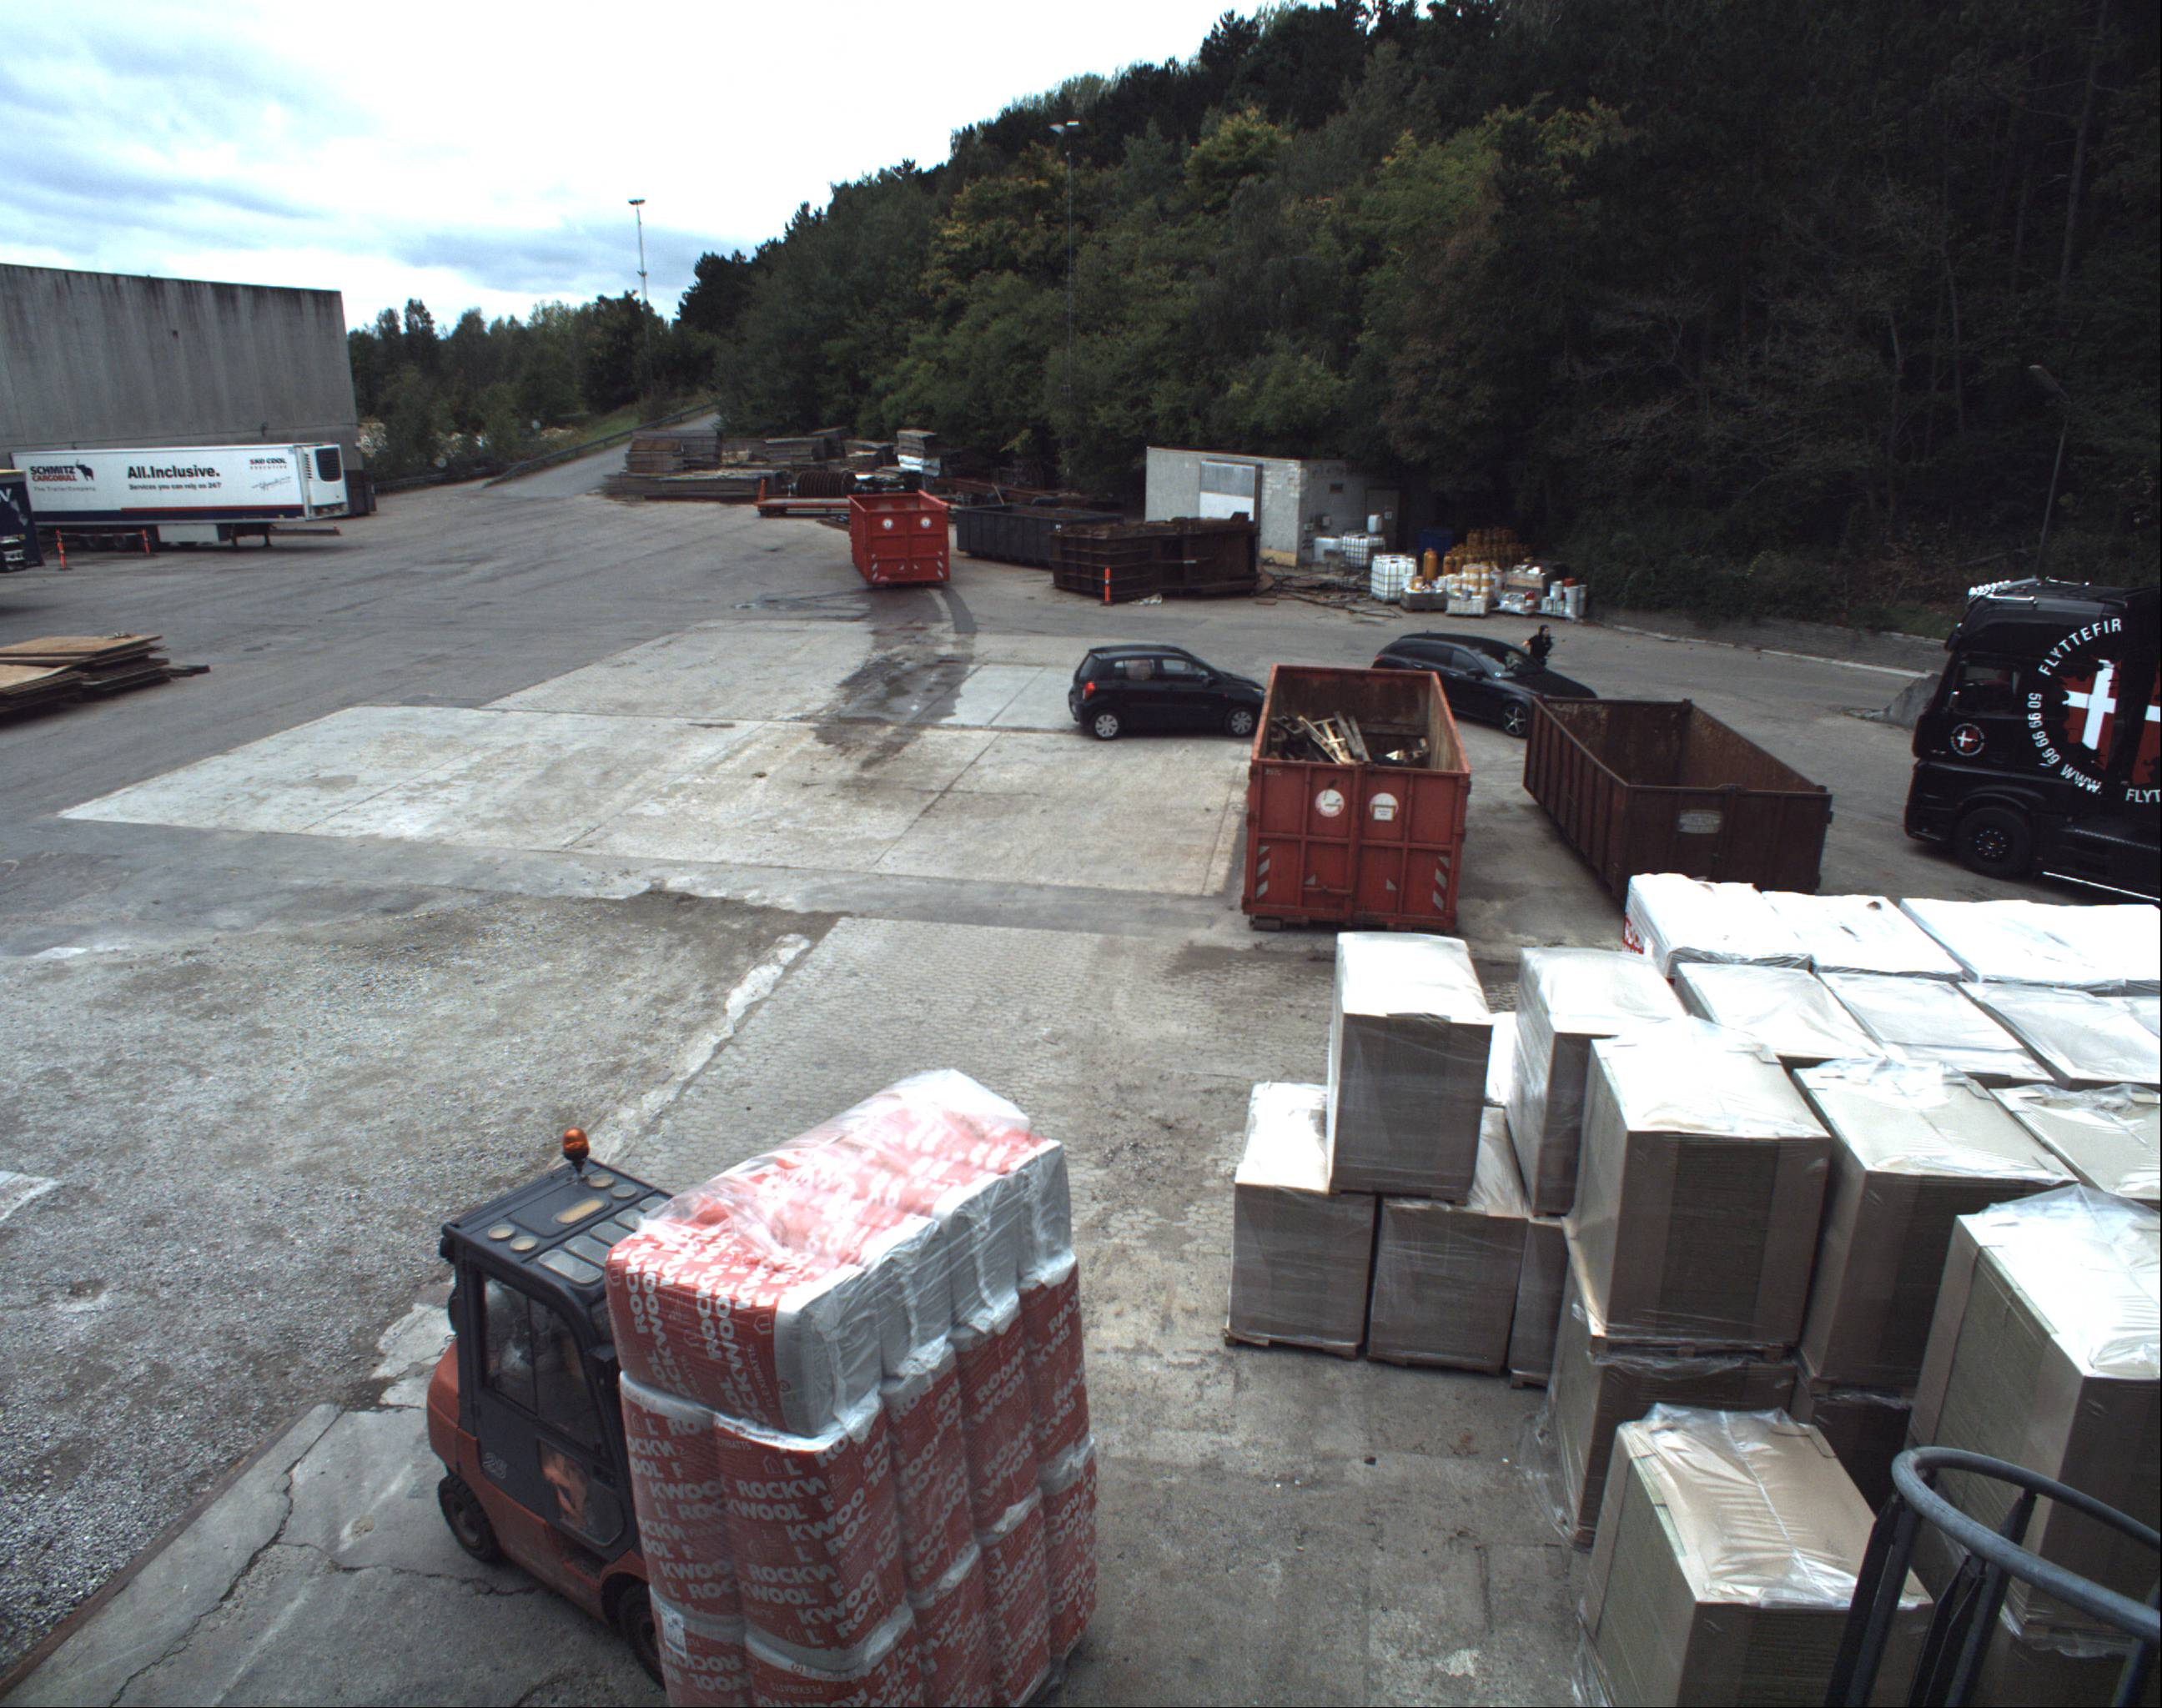rockwool_batts: (609, 1078, 1095, 1706)
